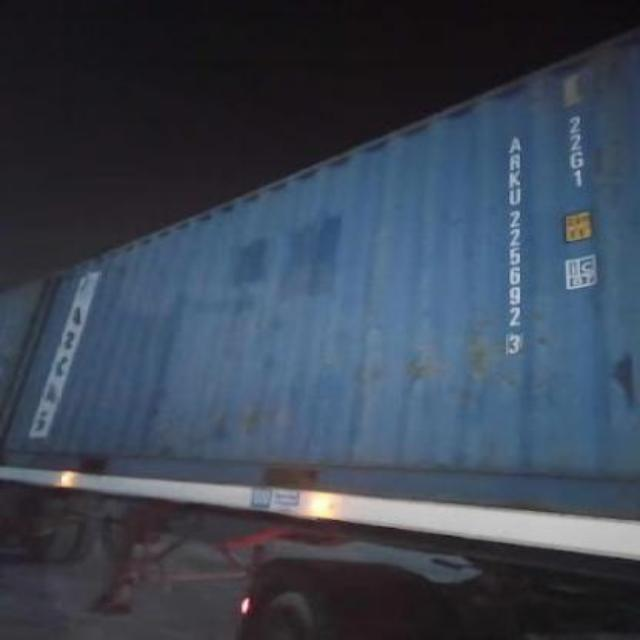2: (504, 304, 526, 328), (506, 208, 526, 228), (504, 229, 526, 247)
3: (506, 332, 524, 352)
5: (500, 242, 528, 266)
6: (506, 266, 526, 284)
9: (504, 282, 530, 306)
A: (506, 132, 524, 152)
K: (506, 169, 524, 187)
R: (506, 150, 530, 170)
U: (506, 186, 526, 207)
